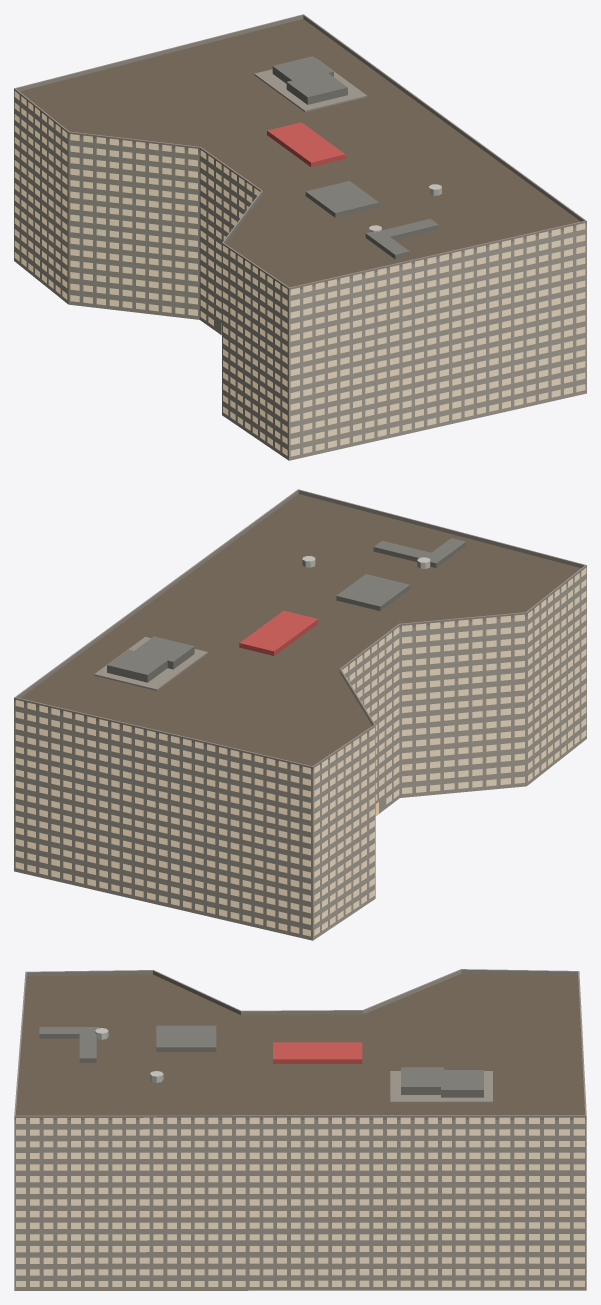
The model's file is evacuee_trust_complex.glb.
The picture shows the model from 3 angles, top to bottom: view 1: azimuth 30°, elevation 25°; view 2: azimuth 150°, elevation 25°; view 3: azimuth 270°, elevation 25°; orthographic projection.
Visible parts, largest first — view 1: m_wall_neutral, m_roof_bitumen, m_window_dark, m_parapet, m_roof_plant, m_atrium_canopy; view 2: m_wall_neutral, m_roof_bitumen, m_window_dark, m_parapet, m_roof_plant, m_atrium_canopy; view 3: m_wall_neutral, m_roof_bitumen, m_window_dark, m_parapet, m_roof_plant, m_atrium_canopy.
Boxes of the visible parts, x1,y1,x2,y2 form: m_wall_neutral: [14, 92, 586, 460]; m_roof_bitumen: [20, 19, 580, 287]; m_window_dark: [14, 91, 585, 456]; m_parapet: [14, 14, 586, 291]; m_roof_plant: [272, 56, 438, 259]; m_atrium_canopy: [267, 122, 345, 167]; m_wall_neutral: [14, 569, 586, 940]; m_roof_bitumen: [20, 494, 580, 766]; m_window_dark: [15, 568, 586, 936]; m_parapet: [14, 489, 586, 770]; m_roof_plant: [107, 538, 466, 682]; m_atrium_canopy: [239, 610, 318, 655]; m_wall_neutral: [14, 1120, 586, 1290]; m_roof_bitumen: [16, 973, 584, 1115]; m_window_dark: [16, 1117, 584, 1286]; m_parapet: [14, 969, 586, 1119]; m_roof_plant: [39, 1025, 483, 1097]; m_atrium_canopy: [273, 1042, 362, 1063].
Bounding box in the file's own units: 81.39 × 46.4 × 134.
